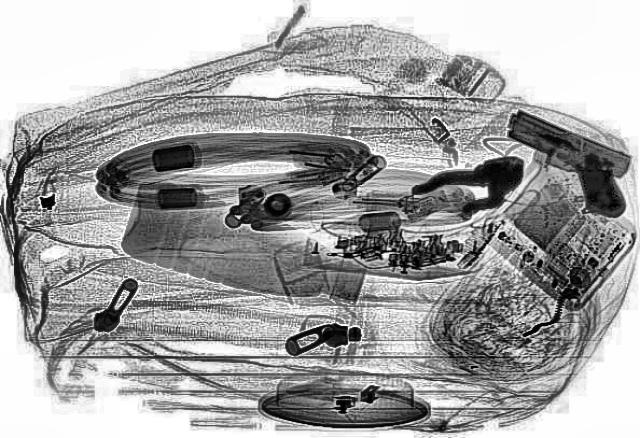Gun: (462, 109, 638, 209)
